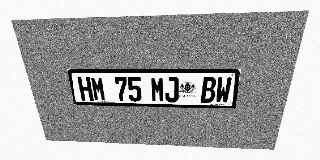5: (127, 77, 142, 102)
7: (113, 77, 129, 101)
B: (200, 77, 217, 103)
H: (77, 77, 94, 101)
J: (165, 77, 179, 102)
M: (90, 77, 106, 101), (150, 77, 164, 102)
W: (215, 77, 232, 103)
